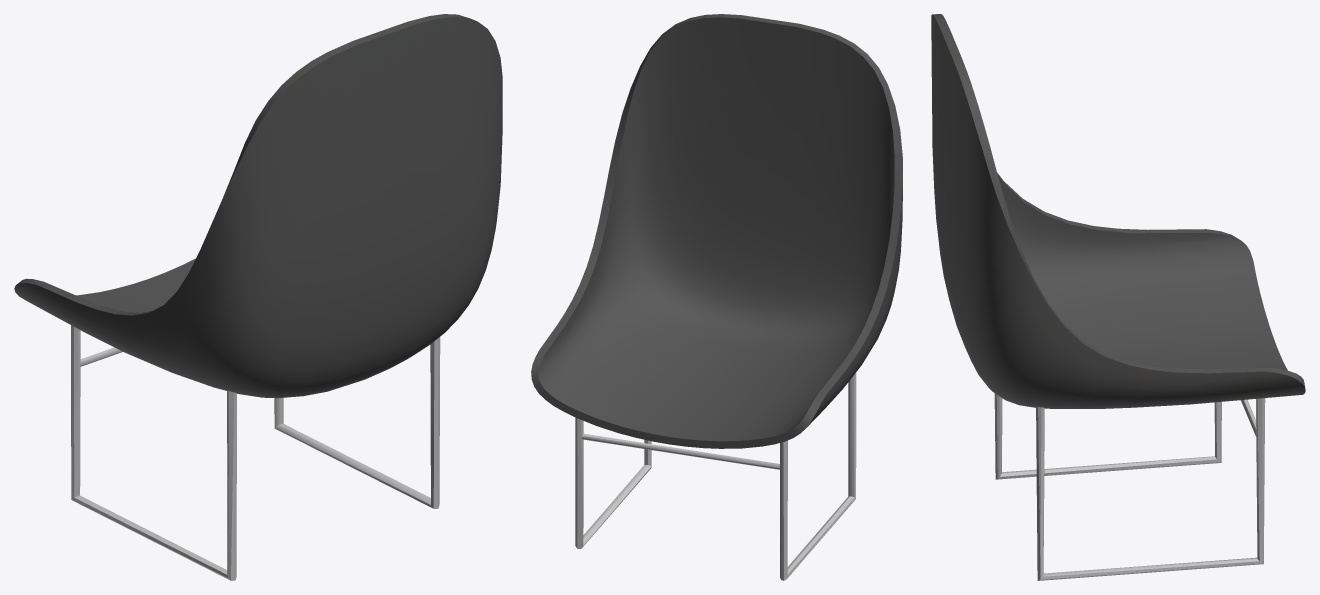
Rendered from Chair.fbx.
The picture shows the model from 3 angles, left to right: view 1: azimuth 30°, elevation 25°; view 2: azimuth 150°, elevation 25°; view 3: azimuth 270°, elevation 25°; orthographic projection. The views are drawn at different scales.
Visible parts, largest first — view 1: chairs__dec.001; view 2: chairs__dec.001; view 3: chairs__dec.001.
Part boxes in pixels (<box>): chairs__dec.001: <box>14,14,502,580</box>; chairs__dec.001: <box>531,14,902,580</box>; chairs__dec.001: <box>931,14,1305,580</box>.
Bounding box in the file's own units: 79.15 × 112 × 77.24.
